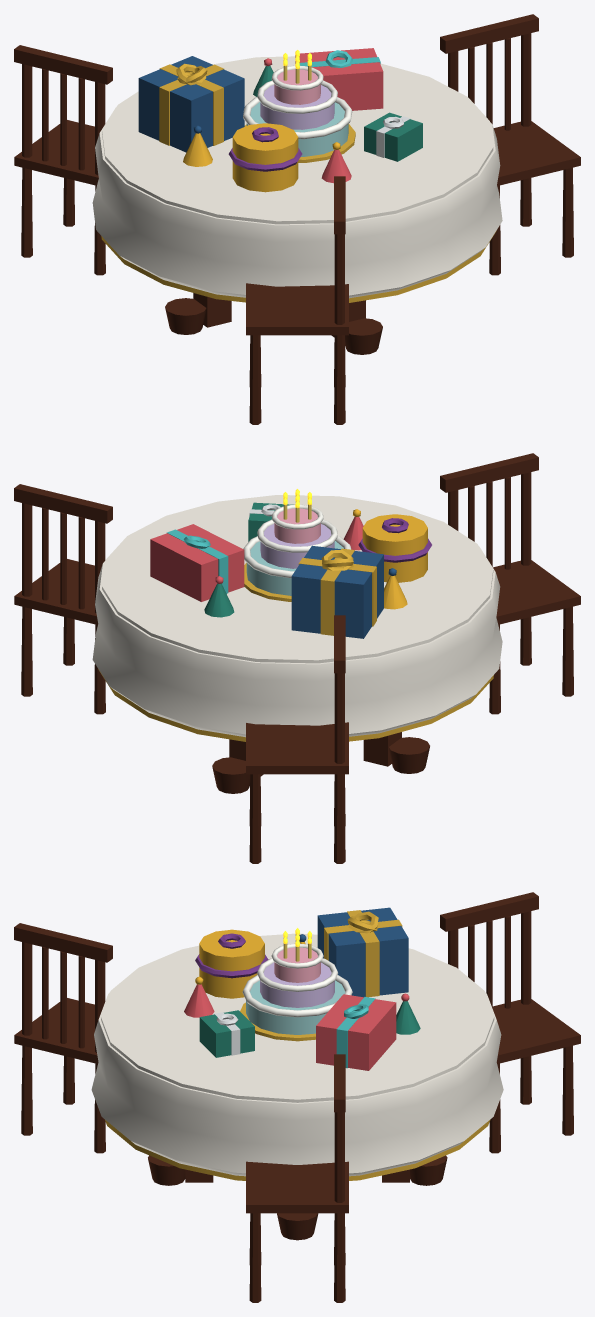
Rendered from prop_birthday_table.glb.
The picture shows the model from 3 angles, top to bottom: view 1: azimuth 30°, elevation 25°; view 2: azimuth 150°, elevation 25°; view 3: azimuth 270°, elevation 25°; orthographic projection.
Parts seen in each view (by area): view 1: prop_birthday_table; view 2: prop_birthday_table; view 3: prop_birthday_table.
Part boxes in pixels (<box>): prop_birthday_table: <box>14,14,580,424</box>; prop_birthday_table: <box>14,453,580,863</box>; prop_birthday_table: <box>14,892,580,1302</box>.
Size of the model in its own units: 2.16 by 1.16 by 2.42.
